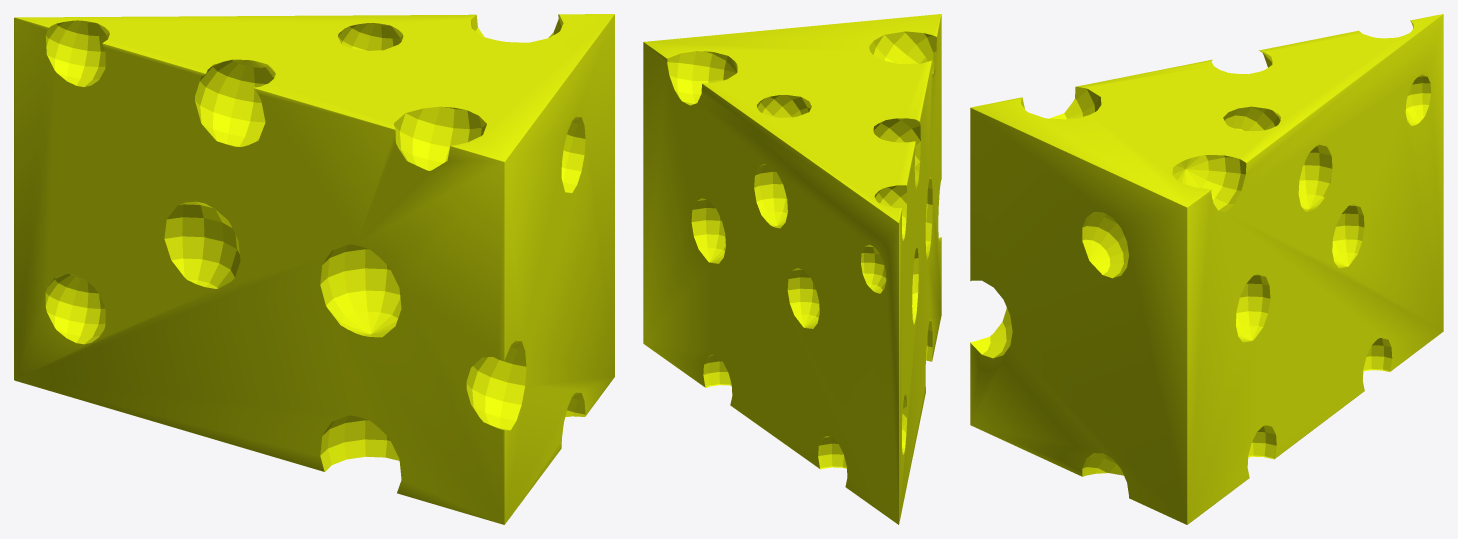
Rendered from 4DecLEjZUrg.glb.
3 views of the same model, side by side, from view 1: azimuth 30°, elevation 25°; view 2: azimuth 150°, elevation 25°; view 3: azimuth 270°, elevation 25° (orthographic). The views are drawn at different scales.
Visible parts, largest first — view 1: Box20179; view 2: Box20179; view 3: Box20179.
Part boxes in pixels (x1,y1,x2,y2): Box20179: [14, 14, 614, 524]; Box20179: [643, 14, 941, 524]; Box20179: [970, 14, 1443, 524].
Bounding box in the file's own units: 1.31 × 1 × 1.35.
